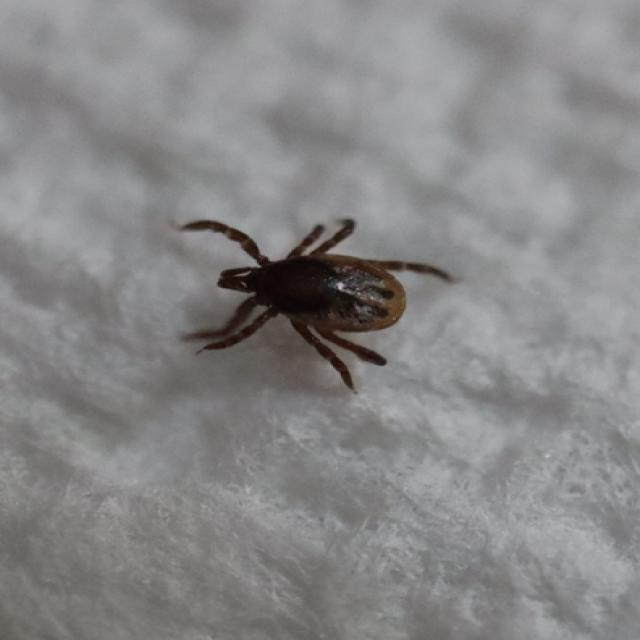Ixodes Ricinus-M: (179, 219, 456, 394)
